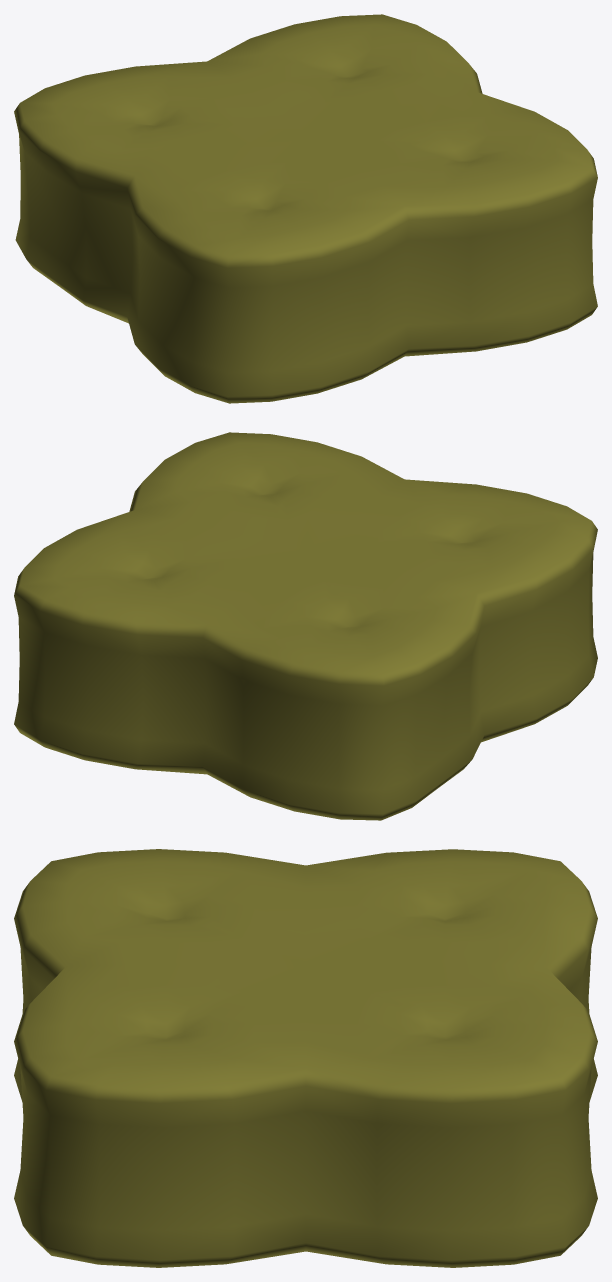
File: Pouf_1.glb
The picture shows the model from 3 angles, top to bottom: view 1: azimuth 30°, elevation 25°; view 2: azimuth 150°, elevation 25°; view 3: azimuth 270°, elevation 25°; orthographic projection. The views are drawn at different scales.
Parts seen in each view (by area): view 1: Pouf_1; view 2: Pouf_1; view 3: Pouf_1.
Boxes of the visible parts, left/top/right/bottom form: Pouf_1: left=14, top=14, right=597, bottom=403; Pouf_1: left=14, top=432, right=597, bottom=820; Pouf_1: left=14, top=849, right=597, bottom=1267.
Bounding box in the file's own units: 1.02 × 0.3679 × 1.02.
Materials: 1 (1 with a texture image).
